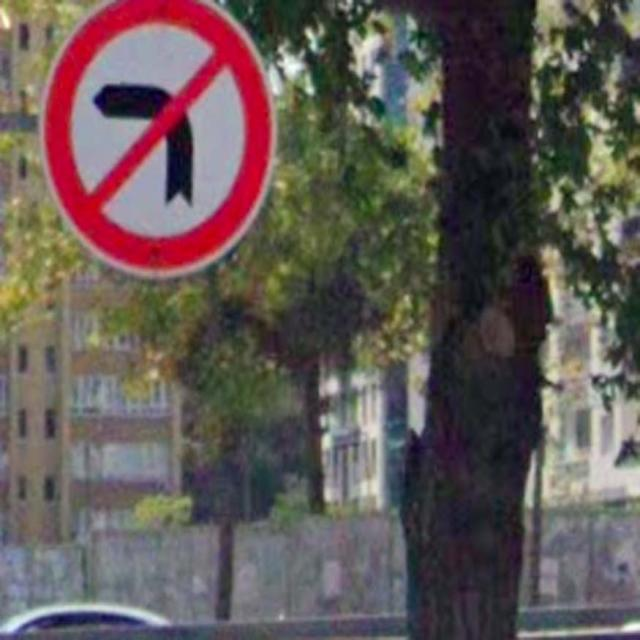soladonulmez: (40, 1, 276, 278)
